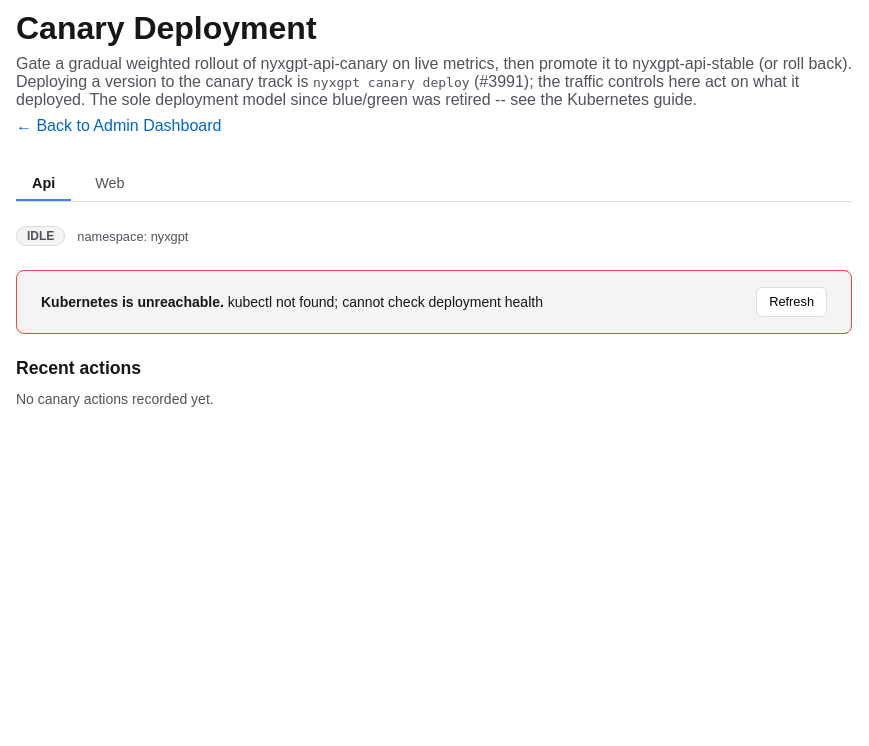
Test: CanaryPage › shows the unreachable-cluster banner and allows refreshing when mode is Kubernetes but kubectl is unavailable
The width and height of the screenshot is (869, 746).
Check: the text "Kubernetes is unreachable." is shown, box [41,294,224,310]
Check: the text "kubectl not found; cannot check deployment health" is shown, box [228,294,543,310]
Click the button "Refresh" at coordinates (792, 302), box [756,287,827,317]
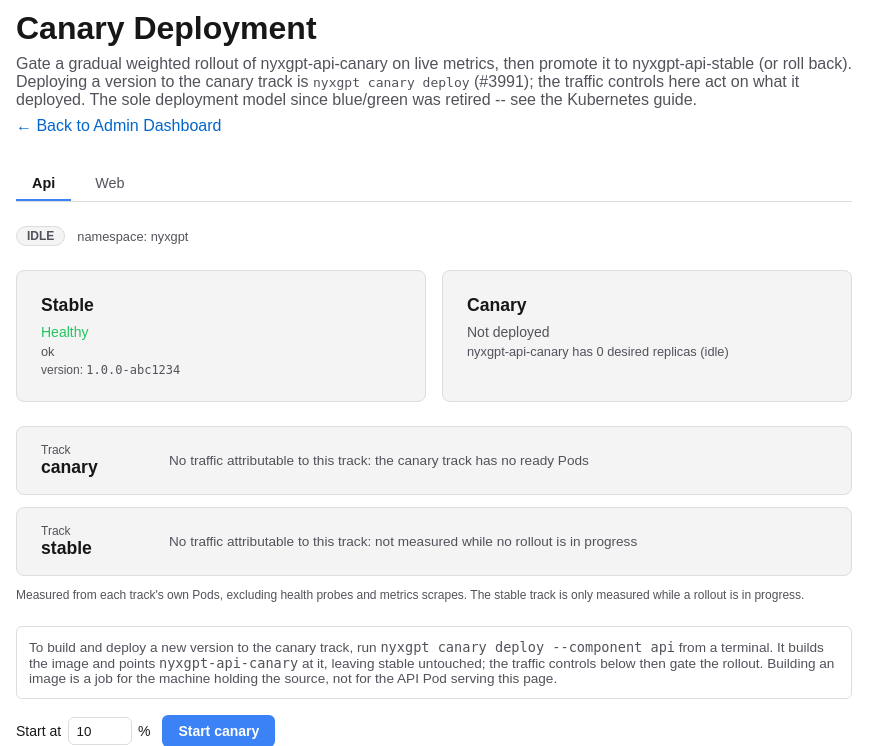
Check: the text "Kubernetes is unreachable." is gone
